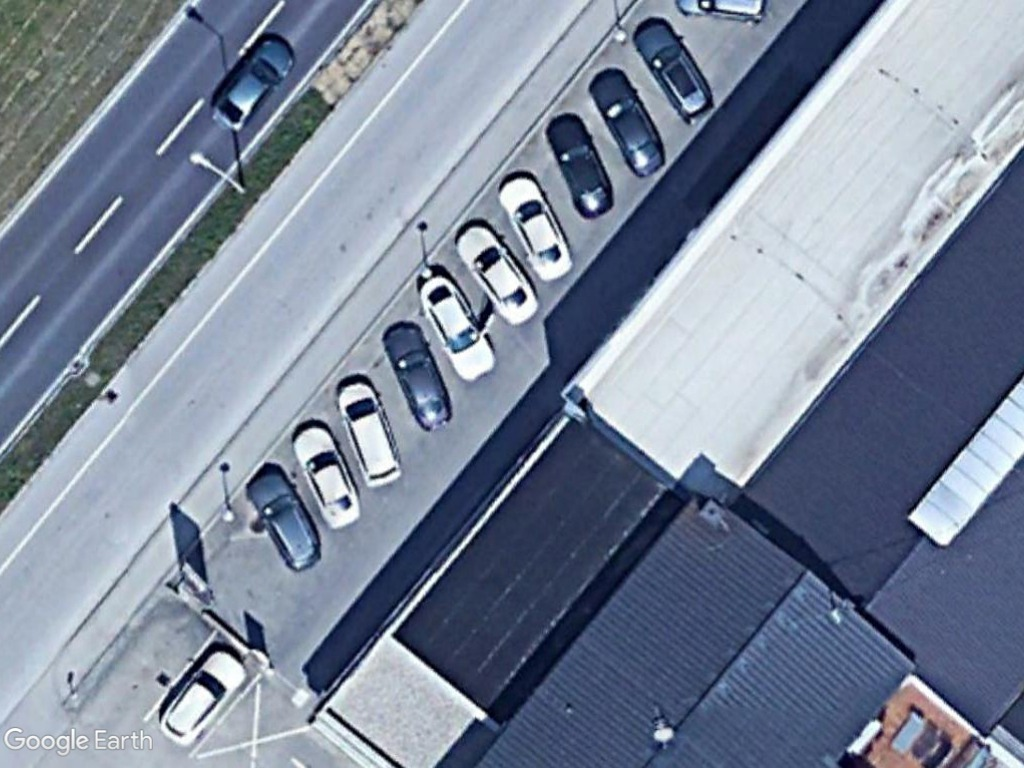car: (632, 17, 720, 125), (206, 31, 299, 132), (156, 643, 248, 745), (454, 222, 540, 329), (416, 274, 498, 386), (588, 67, 666, 180), (495, 172, 575, 282), (542, 111, 619, 221), (288, 423, 364, 532), (243, 472, 322, 576), (380, 323, 454, 434), (335, 378, 403, 490)
